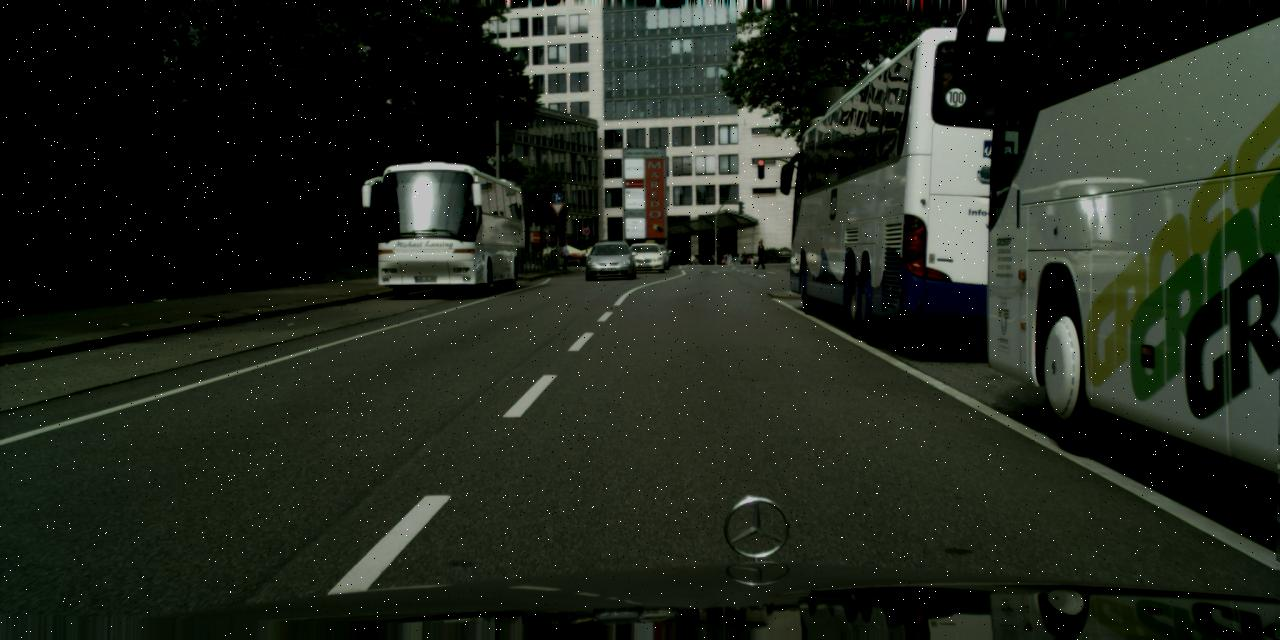ped: (754, 241, 765, 268), (559, 242, 570, 269), (689, 251, 695, 266), (732, 255, 738, 267), (727, 252, 732, 266), (724, 252, 728, 266), (737, 253, 741, 263), (721, 254, 725, 264)
